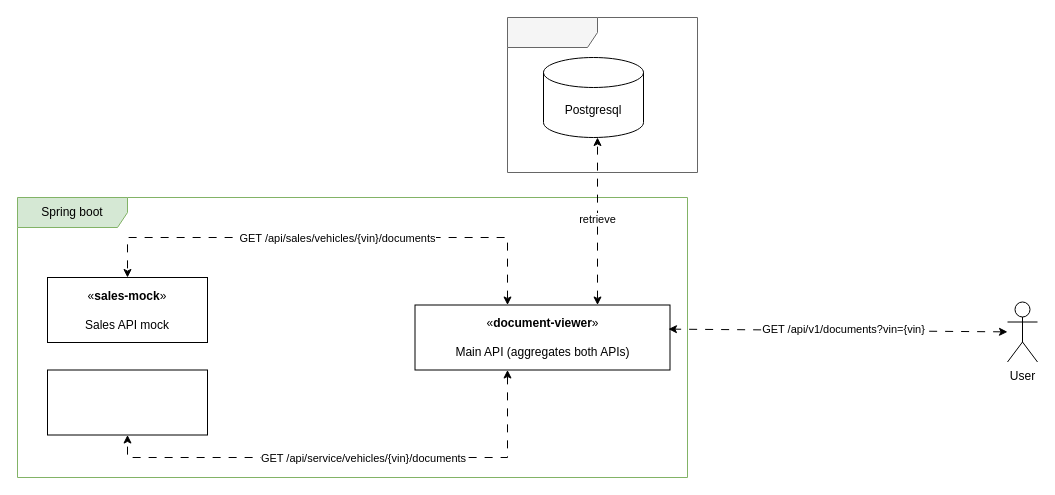
Image size: 1055x495. Some labels were removed from this diagram. Here are the shapes that lost their labels. From the top down, the centre of each, then its label:
At point (602, 94): "outsource".
At point (127, 402): "« service- mock » Service API mock".
